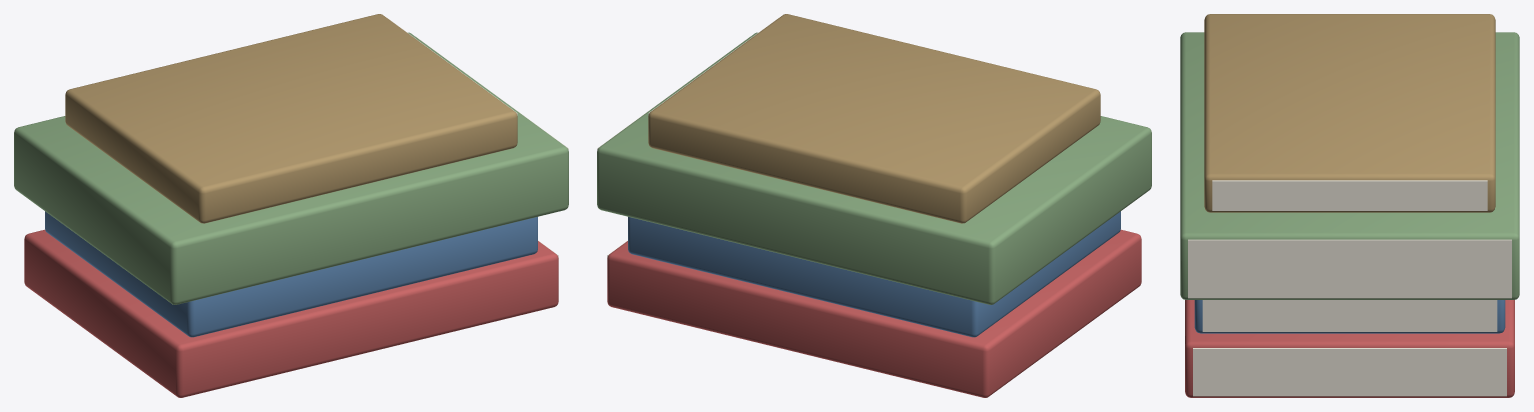
The model's file is books.glb.
3 views of the same model, side by side, from view 1: azimuth 30°, elevation 25°; view 2: azimuth 150°, elevation 25°; view 3: azimuth 270°, elevation 25° (orthographic). The views are drawn at different scales.
Visible parts, largest first — view 1: Books; view 2: Books; view 3: Books.
Part boxes in pixels (x1=…): Books: x1=14, y1=14, x2=568, y2=397; Books: x1=597, y1=14, x2=1151, y2=397; Books: x1=1180, y1=14, x2=1519, y2=397.
Bounding box in the file's own units: 2.51 × 1.18 × 1.75.
